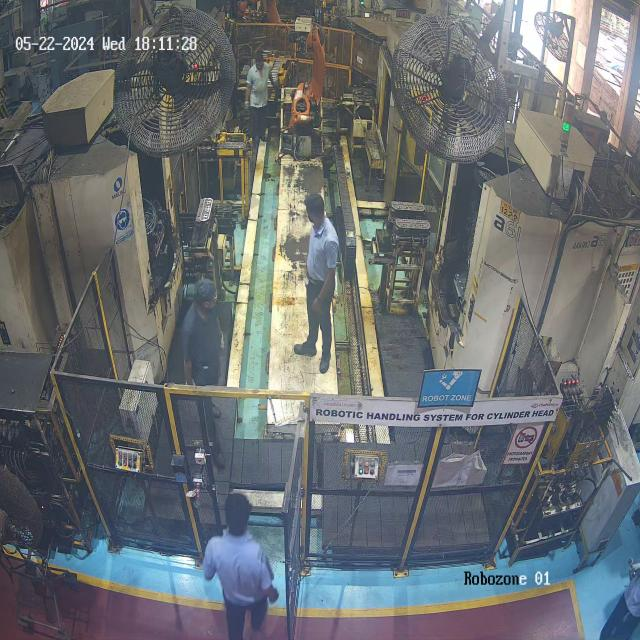person: (284, 186, 361, 376), (173, 284, 240, 480), (203, 487, 286, 639), (238, 52, 293, 172), (598, 550, 640, 640)
